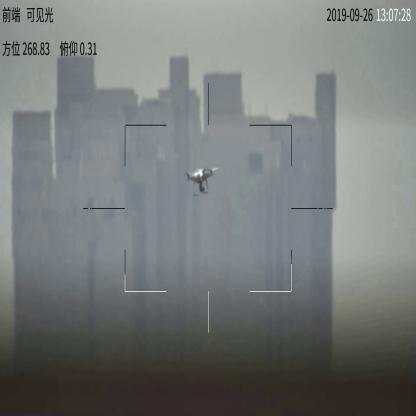uav: (181, 166, 219, 198)
